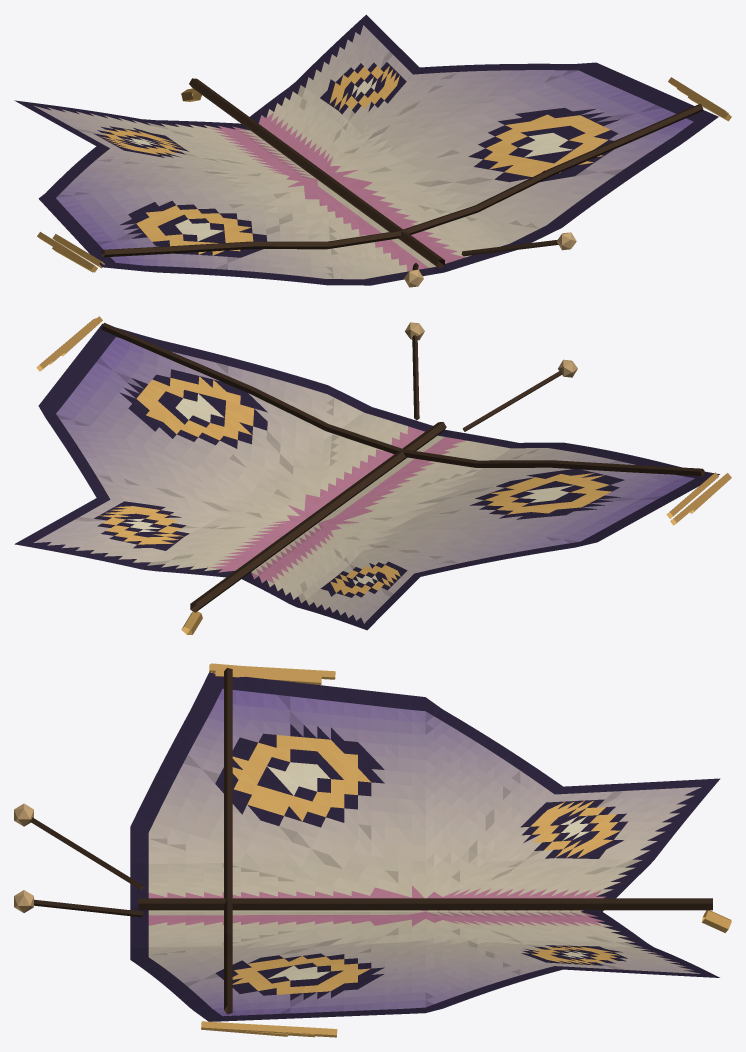
File: kite_moth.glb
3 renders of one model, top to bottom at view 1: azimuth 30°, elevation 25°; view 2: azimuth 150°, elevation 25°; view 3: azimuth 270°, elevation 25°, orthographic. The views are drawn at different scales.
Parts seen in each view (by area): view 1: kite_moth; view 2: kite_moth; view 3: kite_moth.
Part boxes in pixels (bbox=[...]): kite_moth: bbox=[14, 14, 731, 287]; kite_moth: bbox=[14, 316, 731, 634]; kite_moth: bbox=[14, 663, 731, 1037].
Bounding box in the file's own units: 2.18 × 0.2673 × 1.82.
